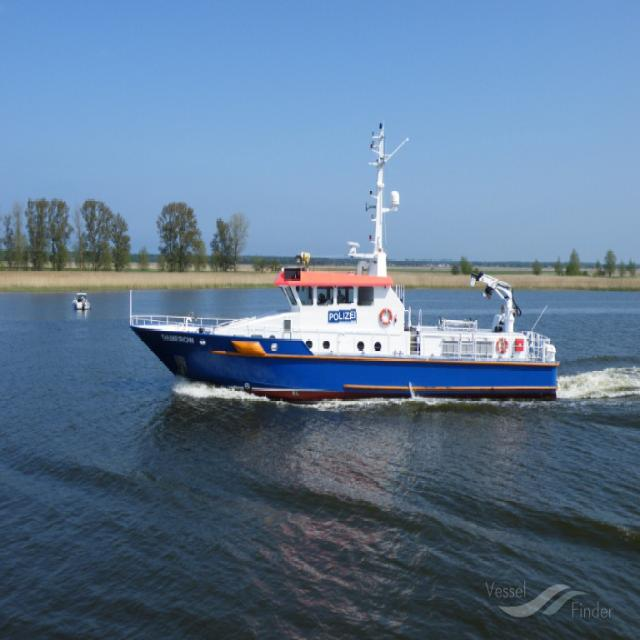OCR: (322, 303, 357, 329)
